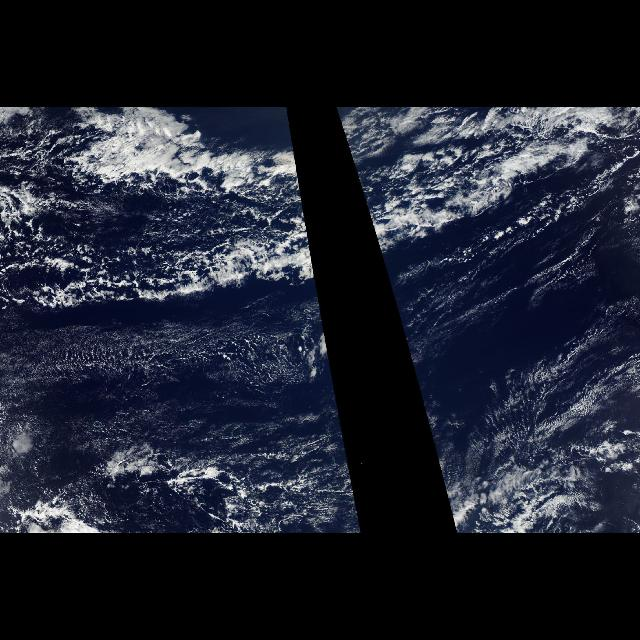Fish: (2, 114, 336, 426), (337, 114, 628, 356)
Sugar: (9, 327, 324, 447)
